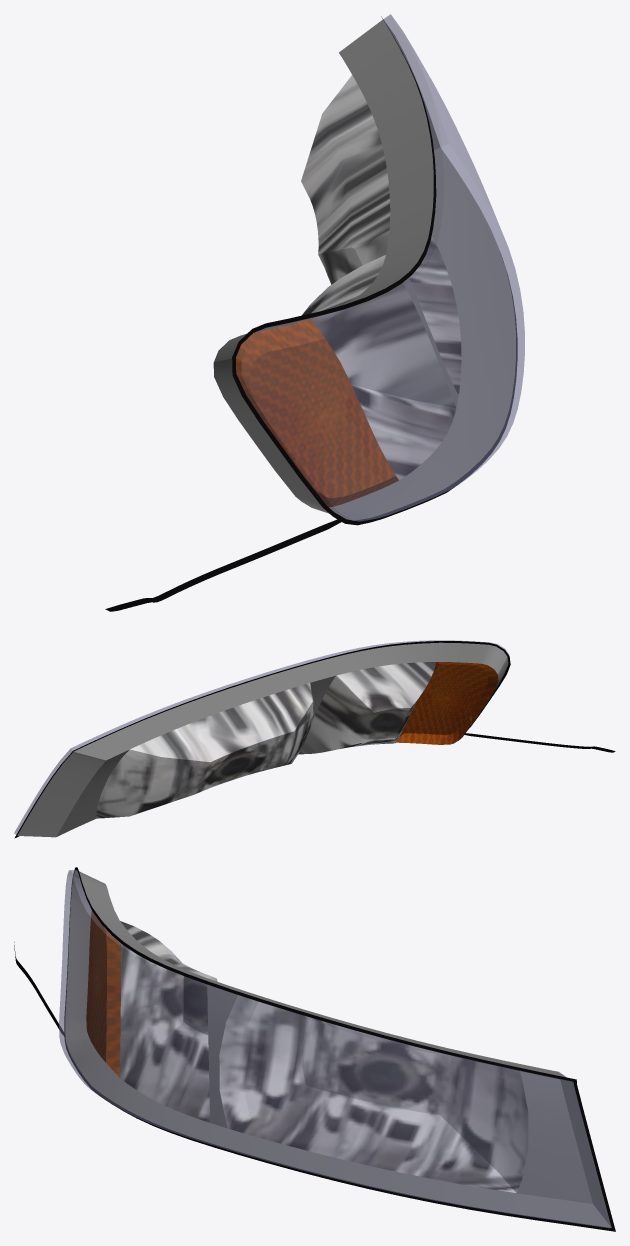
3 renders of one model, top to bottom at view 1: azimuth 30°, elevation 25°; view 2: azimuth 150°, elevation 25°; view 3: azimuth 270°, elevation 25°, orthographic. The views are drawn at different scales.
Visible parts, largest first — view 1: H611_061B_R_H611_061B_R_6_DTaSI, H611_061B_R_1_DaS_H611_061B_R, H611_061B_R_H611_061B_R_5_N, H611_061B_R_H611_061B_R_4_N, H611_061B_R_H611_061B_R_3_N, H611_061B_R_H611_061B_R_7_D; view 2: H611_061B_R_H611_061B_R_3_N, H611_061B_R_1_DaS_H611_061B_R, H611_061B_R_H611_061B_R_4_N, H611_061B_R_H611_061B_R_5_N, H611_061B_R_H611_061B_R_7_D, H611_061B_R_H611_061B_R_6_DTaSI; view 3: H611_061B_R_H611_061B_R_6_DTaSI, H611_061B_R_H611_061B_R_3_N, H611_061B_R_1_DaS_H611_061B_R, H611_061B_R_H611_061B_R_4_N, H611_061B_R_H611_061B_R_7_D, H611_061B_R_H611_061B_R_5_N.
Part boxes in pixels (x1,y1,x2,y2): H611_061B_R_H611_061B_R_6_DTaSI: (236,14,524,521); H611_061B_R_1_DaS_H611_061B_R: (213,19,515,520); H611_061B_R_H611_061B_R_5_N: (236,318,398,507); H611_061B_R_H611_061B_R_4_N: (302,255,456,480); H611_061B_R_H611_061B_R_3_N: (301,75,461,395); H611_061B_R_H611_061B_R_7_D: (105,16,517,611); H611_061B_R_H611_061B_R_3_N: (96,683,313,818); H611_061B_R_1_DaS_H611_061B_R: (17,642,508,837); H611_061B_R_H611_061B_R_4_N: (299,662,436,754); H611_061B_R_H611_061B_R_5_N: (396,662,498,744); H611_061B_R_H611_061B_R_7_D: (14,641,615,838); H611_061B_R_H611_061B_R_6_DTaSI: (14,640,509,834); H611_061B_R_H611_061B_R_6_DTaSI: (59,870,611,1228); H611_061B_R_H611_061B_R_3_N: (219,995,528,1192); H611_061B_R_1_DaS_H611_061B_R: (65,870,611,1227); H611_061B_R_H611_061B_R_4_N: (119,921,217,1122); H611_061B_R_H611_061B_R_7_D: (14,867,615,1231); H611_061B_R_H611_061B_R_5_N: (86,910,121,1077).
Size of the model in its own units: 60.94 by 18.49 by 59.2.
